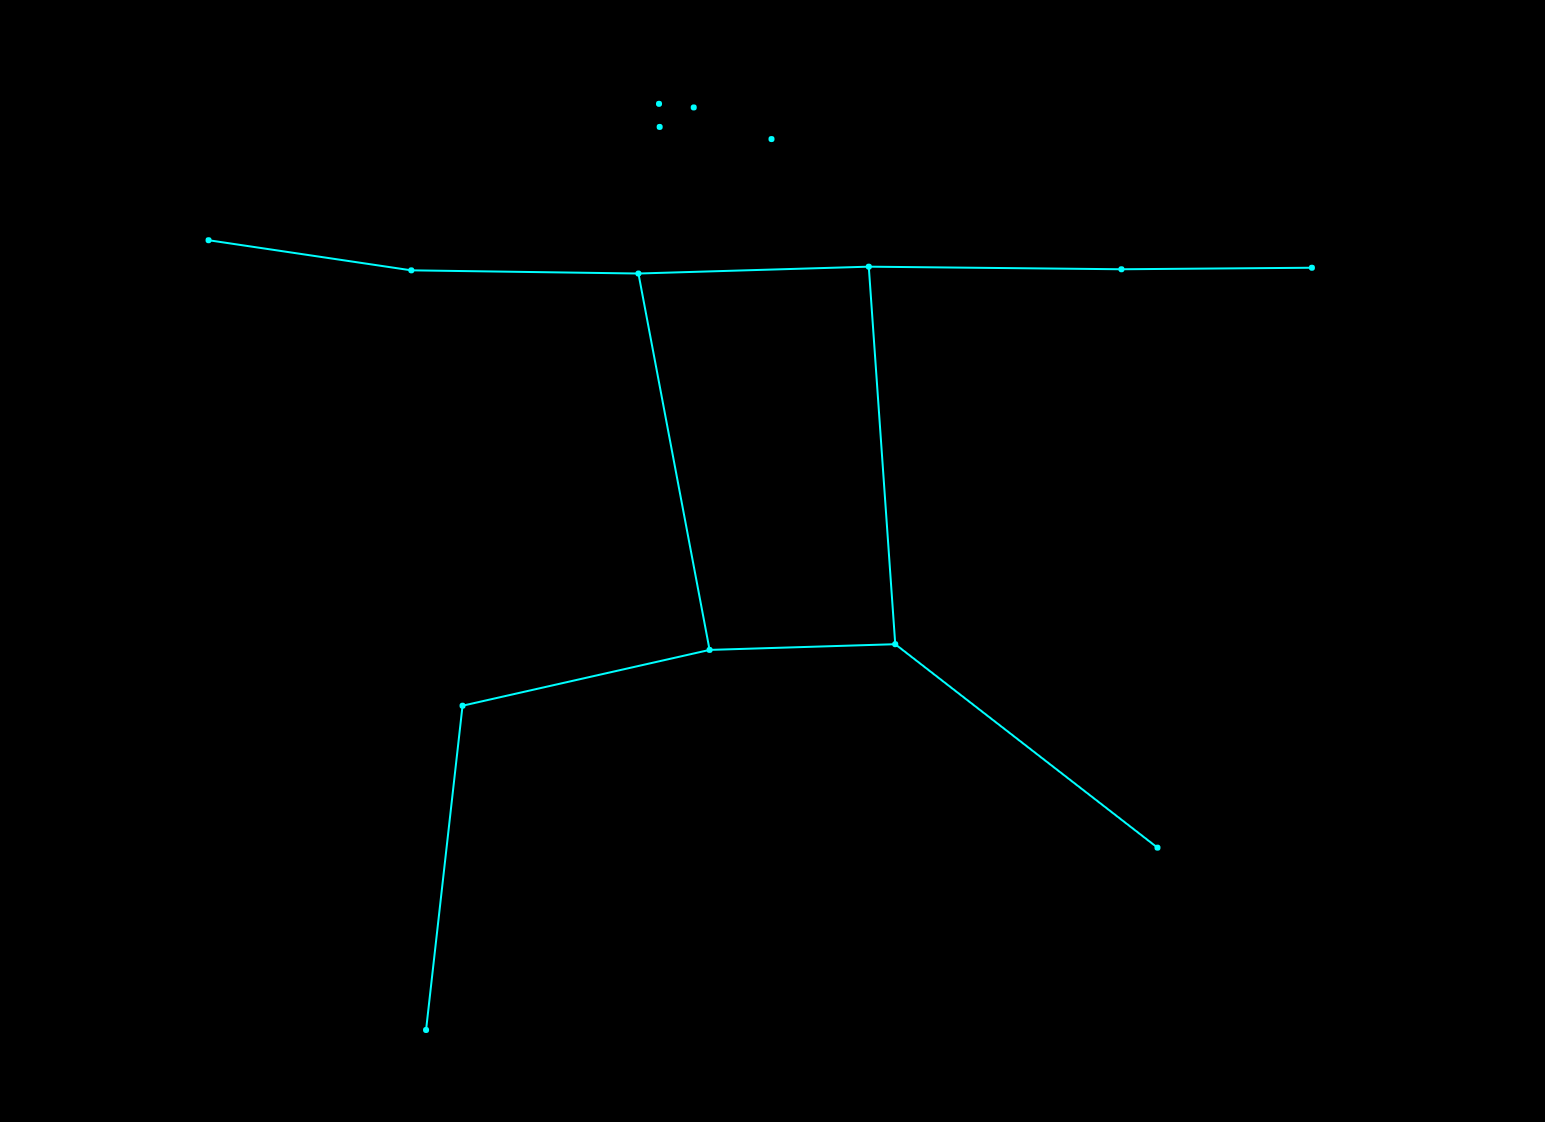warrior_2: (196, 73, 1327, 1040)
